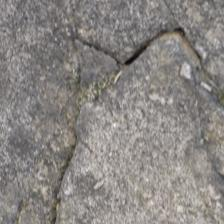Crack: (0, 115, 92, 155), (0, 86, 97, 120)
